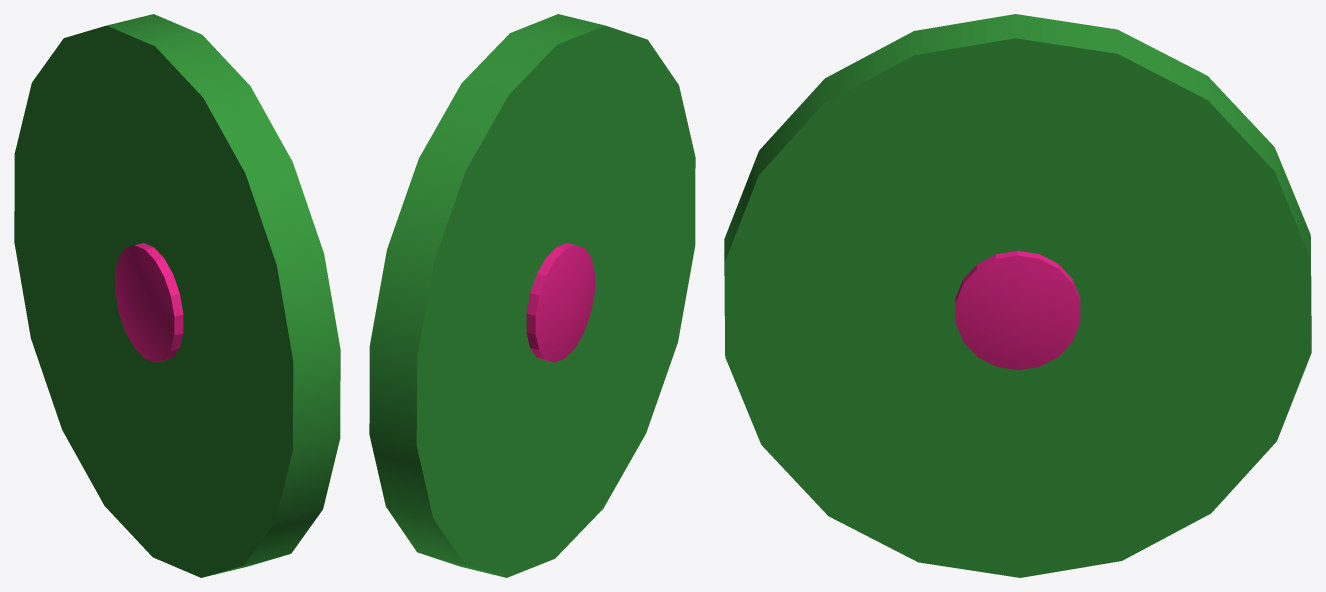
Rendered from 3D_EVNTRAIN_002.FBX.
3 views of the same model, side by side, from view 1: azimuth 30°, elevation 25°; view 2: azimuth 150°, elevation 25°; view 3: azimuth 270°, elevation 25° (orthographic). The views are drawn at different scales.
Visible parts, largest first — view 1: Cylinder006; view 2: Cylinder006; view 3: Cylinder006.
Part boxes in pixels (<box>): Cylinder006: <box>14,14,340,577</box>; Cylinder006: <box>369,14,695,577</box>; Cylinder006: <box>724,14,1311,577</box>.
Size of the model in its own units: 19.17 by 112 by 111.
